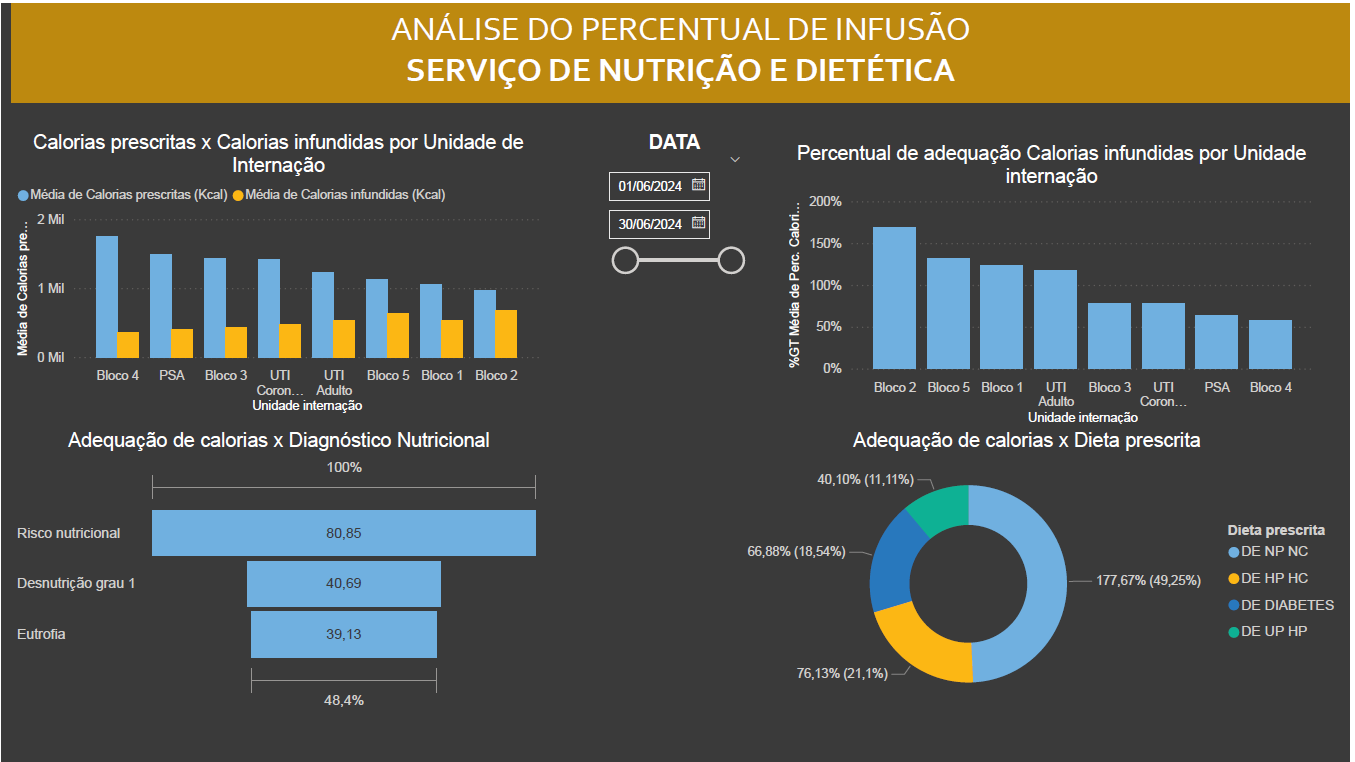

Layout of this report page (visuals, bound fields, positions):
{"tool":"powerbi","page":{"name":"% Infusão de Dieta","canvas":[1280,720],"ordinal":1},"visuals":[{"type":"textbox","box":[9.7,0,1270.4,94.1],"z":0},{"type":"clusteredColumnChart","title":"Calorias prescritas x Calorias infundidas por Unidade de Internação","fields":{"Y":["Avg(Infusão.Calorias prescritas (Kcal))","Avg(Infusão.Calorias infundidas (Kcal))"],"Category":["Infusão.Unidade internação"]},"box":[9.7,120.6,506.7,272.7],"z":1},{"type":"clusteredColumnChart","title":"Percentual de adequação Calorias infundidas por Unidade internação","fields":{"Y":["Sum(Infusao.Perc. Calorias infundidas)"],"Category":["Infusão.Unidade internação"]},"box":[743.2,131.5,507.9,272.7],"z":2},{"type":"funnel","title":"Adequação de calorias x Diagnóstico Nutricional","fields":{"Y":["Sum(Infusao.Perc. Calorias infundidas)"],"Category":["Infusao.Diagnóstico nutricional"]},"box":[10,404,507,273],"z":3},{"type":"donutChart","title":"Adequação de calorias x Dieta prescrita","fields":{"Y":["Sum(Infusao.Perc. Calorias infundidas)"],"Category":["Infusao.Dieta prescrita"]},"box":[667.2,404.2,612.9,272.7],"z":4},{"type":"slicer","title":"DATA","fields":{"Values":["Infusao.Data"]},"box":[564,120.8,149.6,163.3],"z":5}]}

Visuals, with their boxes in screenshot pixels (x1, y1, x2, y2), scaled from the page's 1280x720 canvas onto the 1355x762 screenshot:
textbox: bbox=(10, 0, 1354, 100)
"Calorias prescritas x Calorias infundidas por Unidade de Internação" clusteredColumnChart: bbox=(10, 128, 547, 416)
"Percentual de adequação Calorias infundidas por Unidade internação" clusteredColumnChart: bbox=(787, 139, 1324, 428)
"Adequação de calorias x Diagnóstico Nutricional" funnel: bbox=(11, 428, 547, 716)
"Adequação de calorias x Dieta prescrita" donutChart: bbox=(706, 428, 1354, 716)
"DATA" slicer: bbox=(597, 128, 755, 301)
